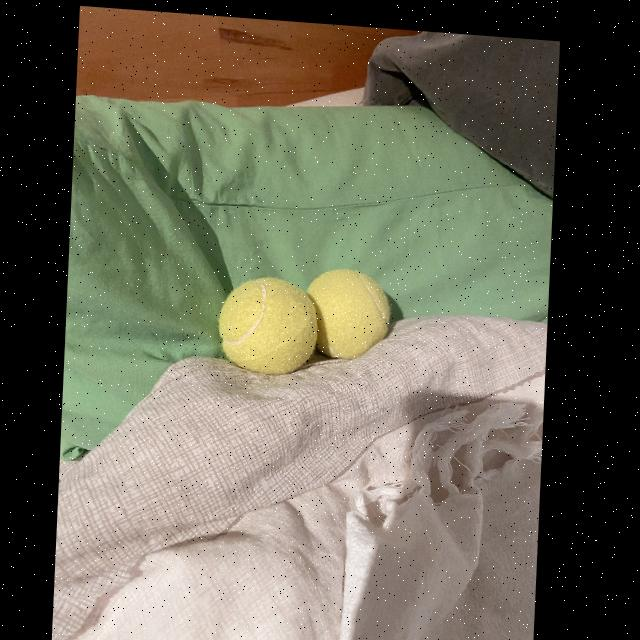Tennisball: (219, 278, 317, 374), (307, 269, 390, 359)
